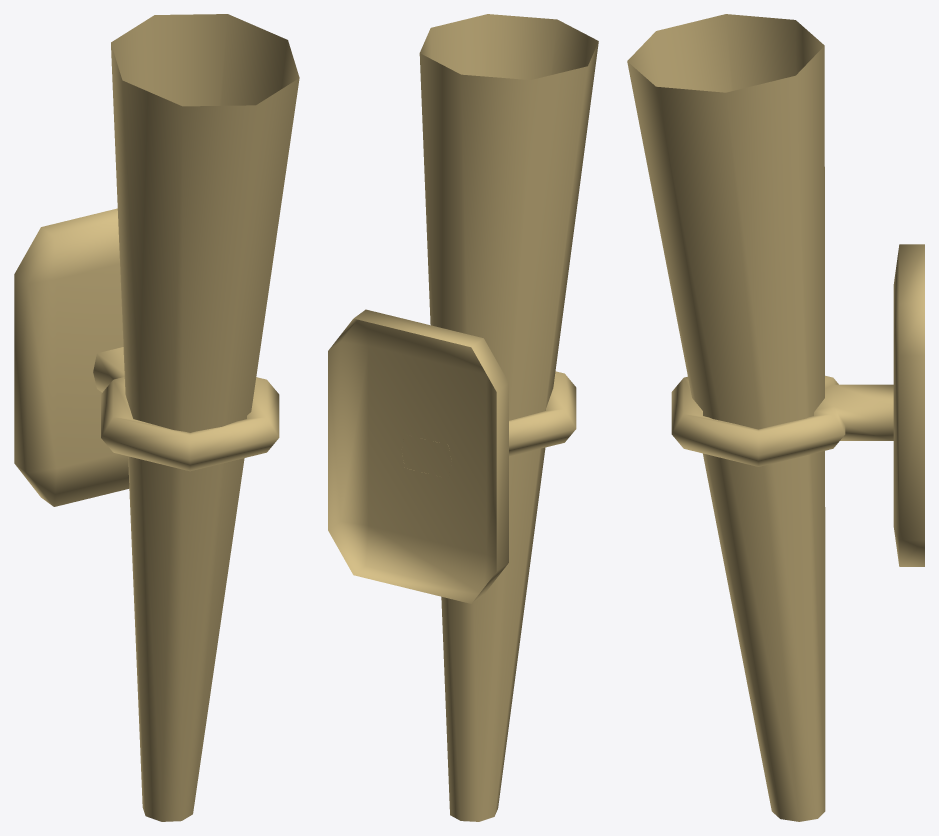
File: Torch.fbx
3 views of the same model, side by side, from view 1: azimuth 30°, elevation 25°; view 2: azimuth 150°, elevation 25°; view 3: azimuth 270°, elevation 25° (orthographic). The views are drawn at different scales.
Parts seen in each view (by area): view 1: WallTorch; view 2: WallTorch; view 3: WallTorch.
Boxes of the visible parts, x1,y1,x2,y2 form: WallTorch: (14, 14, 299, 821); WallTorch: (328, 14, 598, 821); WallTorch: (627, 14, 924, 821).
Bounding box in the file's own units: 0.2499 × 1.05 × 0.3684.
